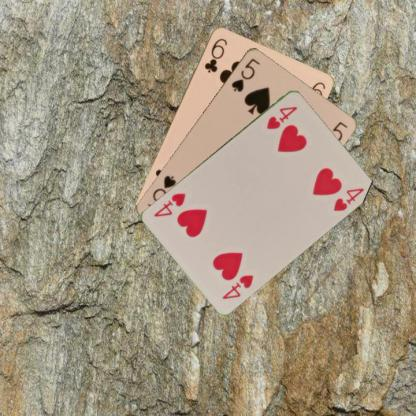4h: (219, 272, 254, 300), (264, 103, 298, 130)
5s: (229, 55, 261, 93)
6c: (202, 35, 229, 74)
